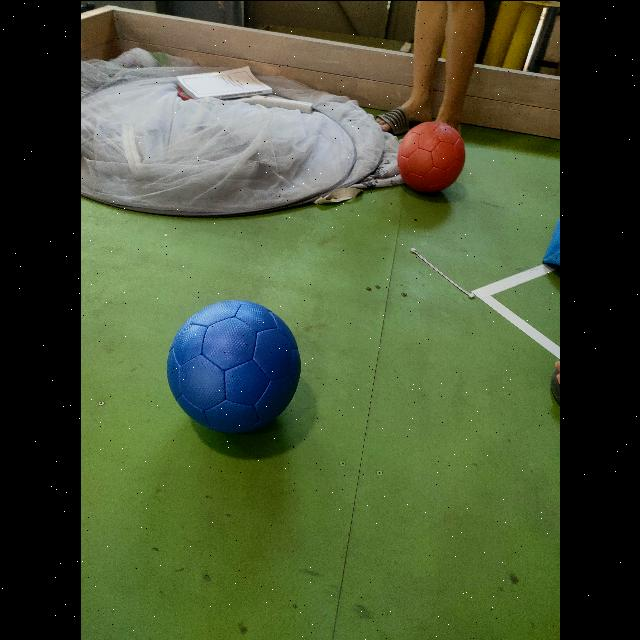B: (167, 299, 301, 433)
R: (396, 121, 465, 192)
